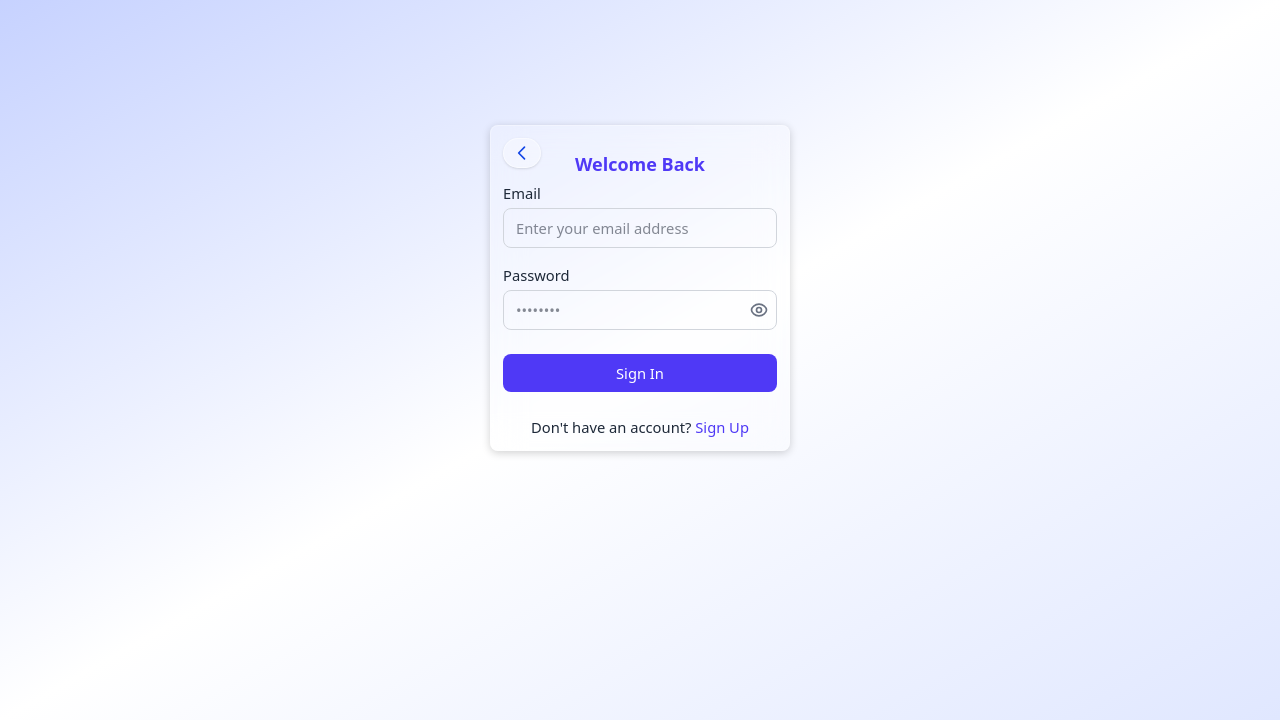
it: SignIn Page › shows error on 401 response
The image size is (1280, 720).
Note: Fill inputs with valid email but wrong password
Type "test@example.com" into the field with placeholder "Enter your email address" at x=640, y=228, box [503,208,777,248]
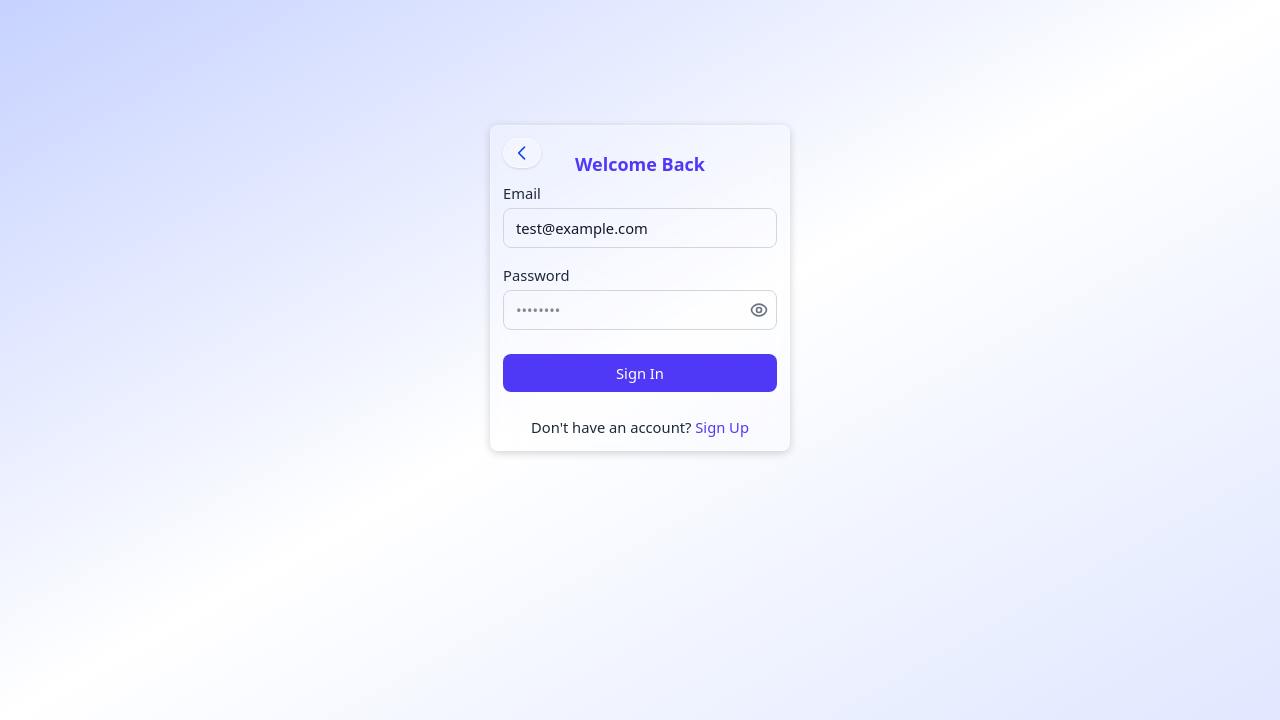
Type "wrongpass" into the password field with placeholder "••••••••" at x=640, y=310, box [503,290,777,330]
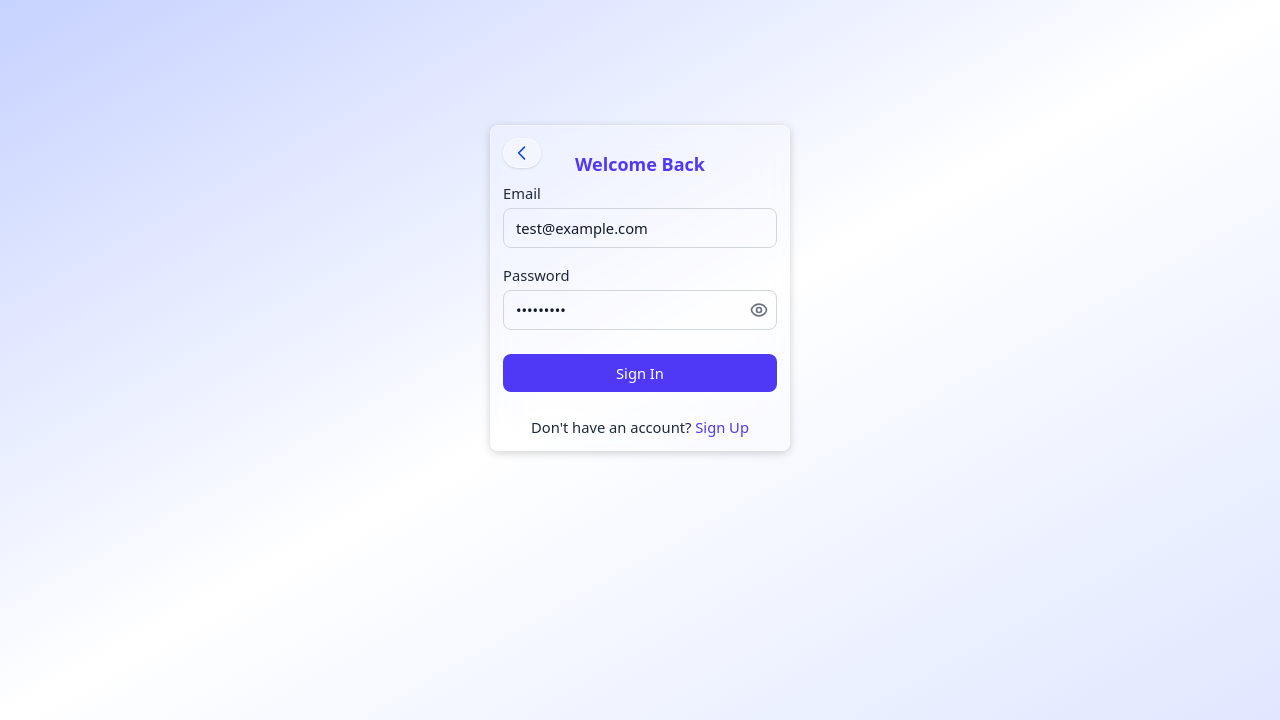
Note: Submit the form to trigger login attempt
Submit the form with placeholder "Enter your email", box [503,182,777,438]
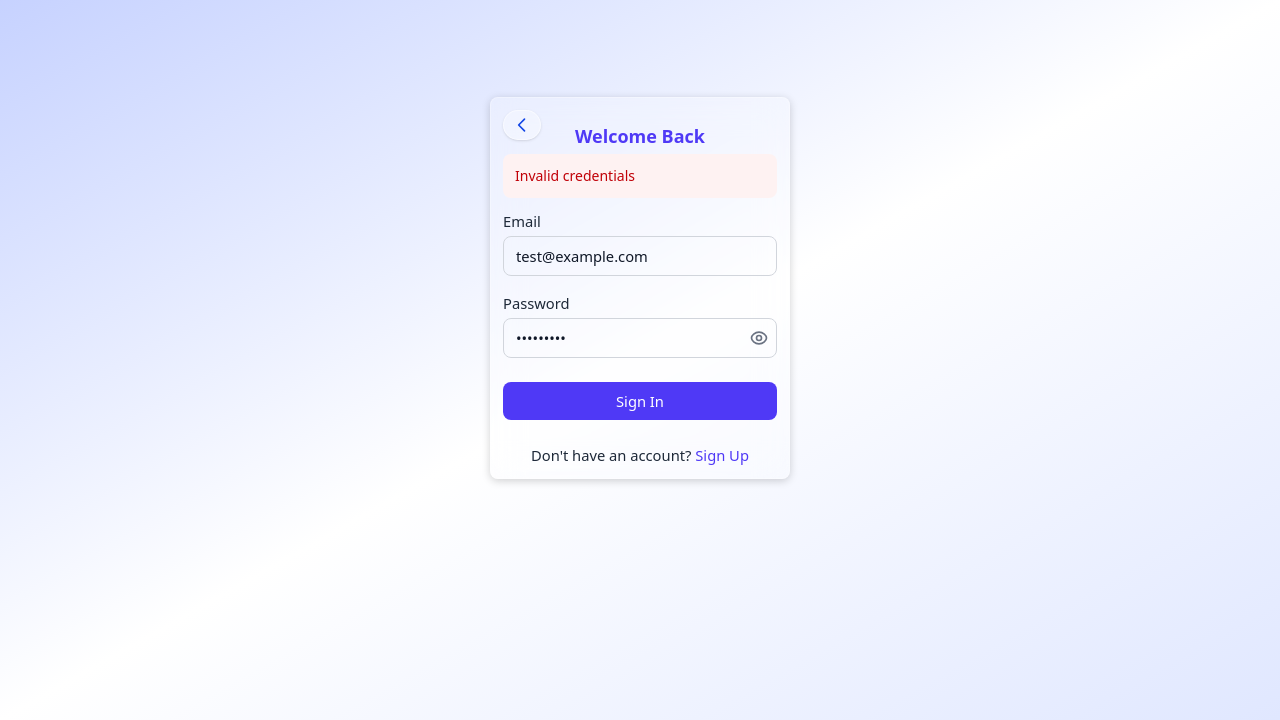
Expected: the text "Invalid credentials" is shown, [503,154,777,198]
